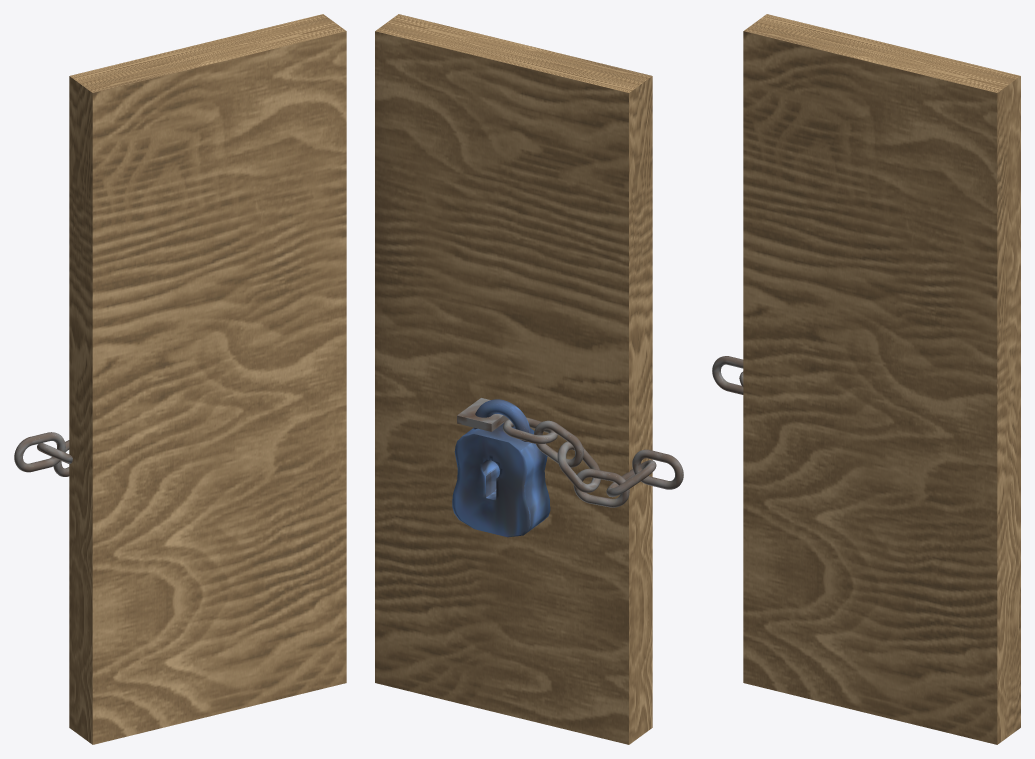
Rendered from lockblue.fbx.
3 renders of one model, left to right at view 1: azimuth 30°, elevation 25°; view 2: azimuth 150°, elevation 25°; view 3: azimuth 330°, elevation 25°, orthographic.
Visible parts, largest first — view 1: Cube.003, Torus.006; view 2: Cube.003, Cube.005, Torus.006, Torus.004, Torus.001, Torus, Torus.003, Cube.004, Torus.005, Torus.002; view 3: Cube.003, Torus.006.
Boxes of the visible parts, x1,y1,x2,y2 form: Cube.003: (69, 14, 346, 744); Torus.006: (14, 432, 65, 472); Cube.003: (375, 14, 652, 744); Cube.005: (452, 423, 550, 537); Torus.006: (632, 449, 683, 489); Torus.004: (573, 468, 629, 507); Torus.001: (534, 420, 583, 467); Torus: (473, 399, 530, 441); Torus.003: (557, 441, 600, 492); Cube.004: (457, 398, 508, 431); Torus.005: (502, 417, 557, 443); Torus.002: (606, 460, 656, 497); Cube.003: (743, 14, 1020, 744); Torus.006: (712, 356, 743, 394).
Size of the model in its own units: 243 by 490 by 69.76.
10 materials, 10 textured.
